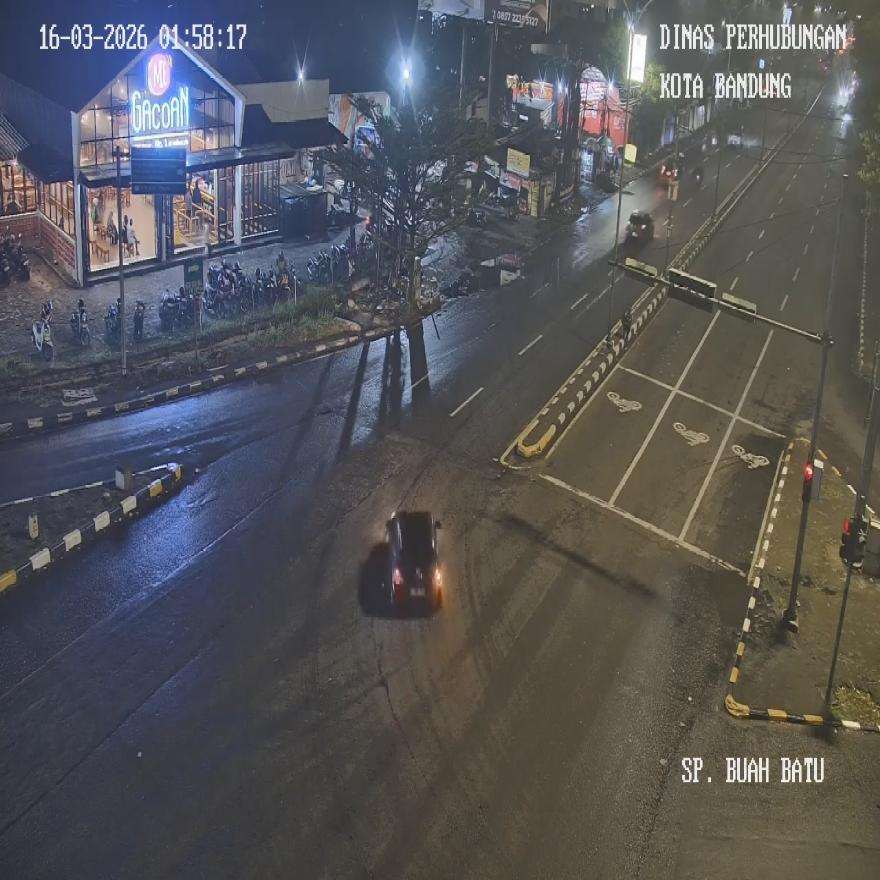Motor: (385, 509, 441, 612)
Truk: (2, 235, 30, 281), (159, 286, 181, 331), (32, 314, 53, 361), (274, 253, 294, 302), (70, 301, 90, 347), (307, 250, 330, 284), (104, 298, 120, 341), (132, 299, 144, 340)
